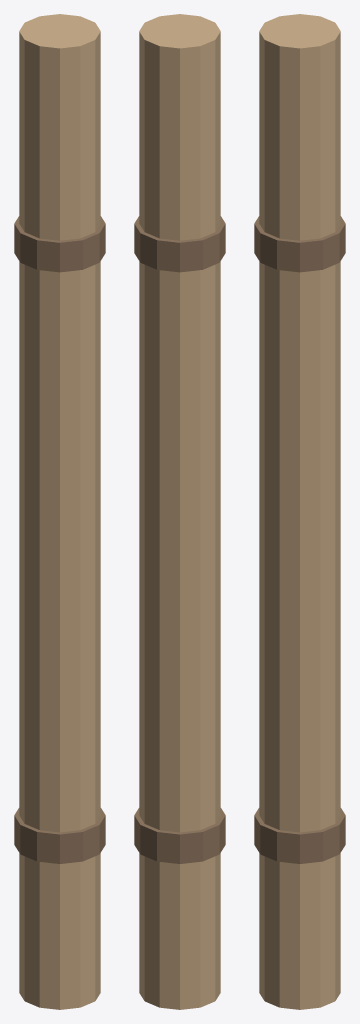
File: feudal-japan-castle-town-bamboo-flute-25f0189f__26485.glb
3 renders of one model, left to right at view 1: azimuth 30°, elevation 25°; view 2: azimuth 210°, elevation 25°; view 3: azimuth 330°, elevation 25°, orthographic.
Visible parts, largest first — view 1: bamboo-flute; view 2: bamboo-flute; view 3: bamboo-flute.
Part boxes in pixels (box(x1,y1,x2,y2)): bamboo-flute: box(14, 14, 105, 1009); bamboo-flute: box(134, 14, 225, 1009); bamboo-flute: box(254, 14, 345, 1009).
Bounding box in the file's own units: 0.056 × 0.65 × 0.056.
